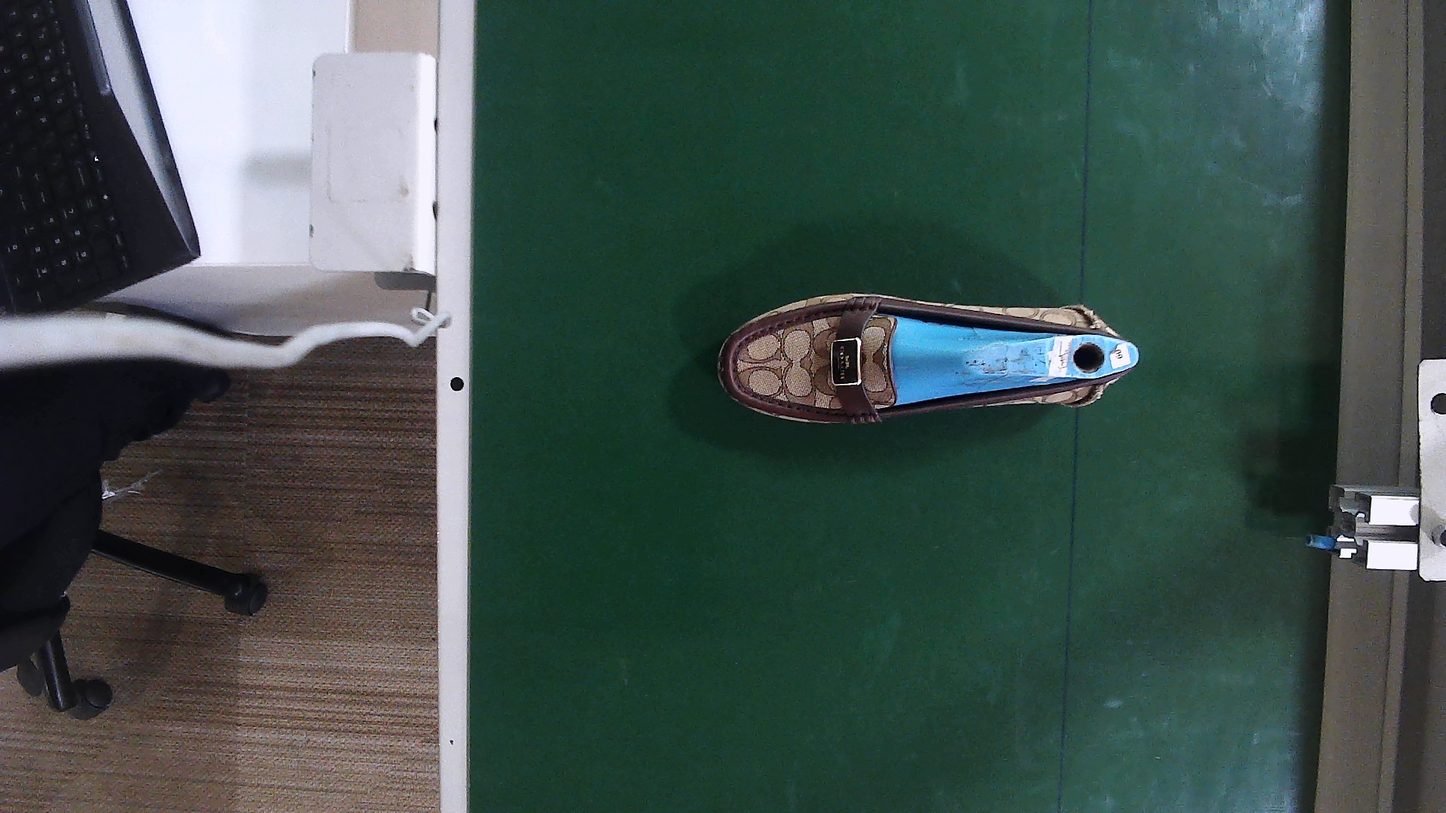shoe: (718, 297, 1138, 425)
